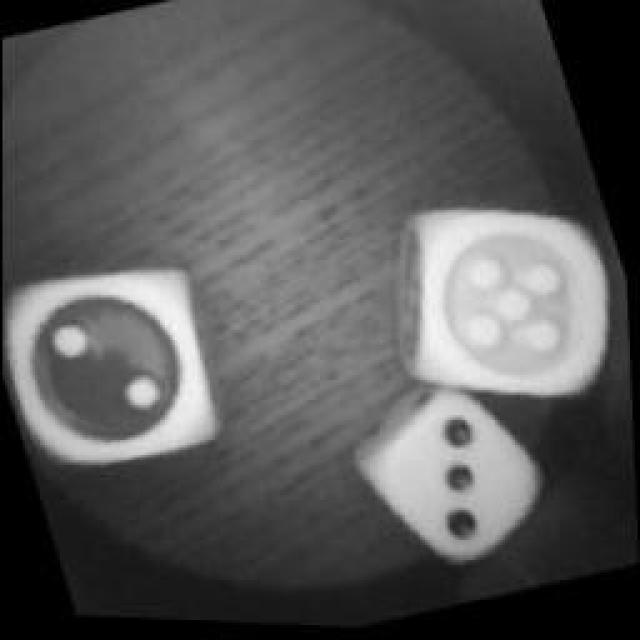dice_2: (0, 240, 240, 500)
dice_3: (338, 367, 560, 585)
dice_5: (378, 172, 632, 430)
